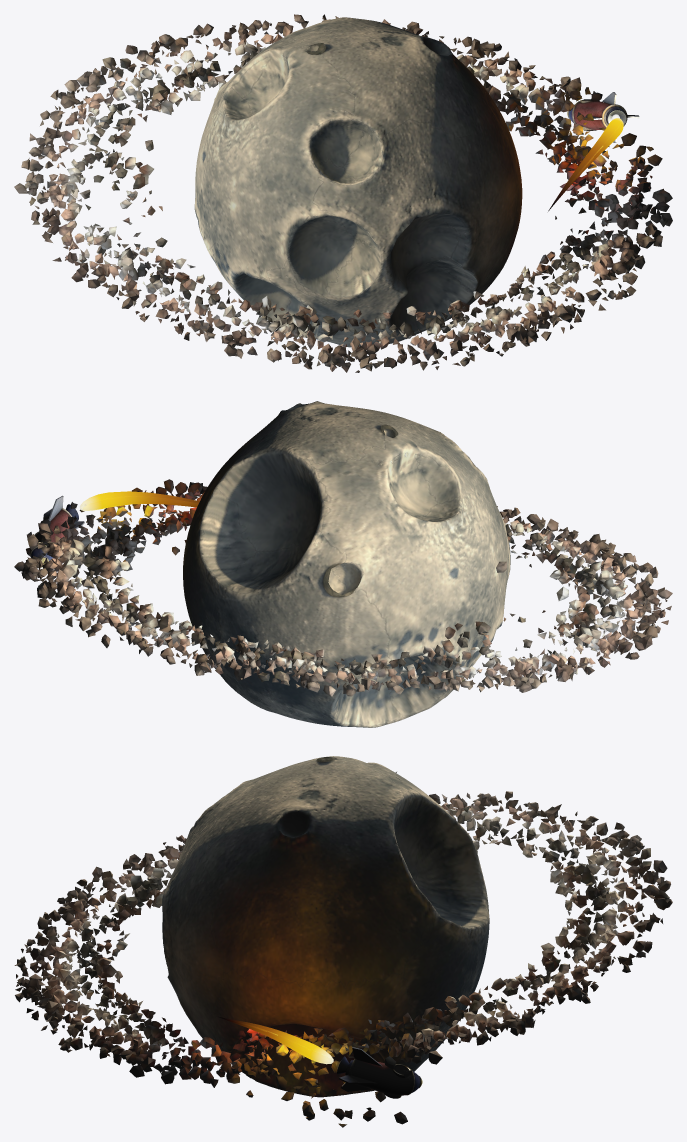
The model's file is moon2-PF6HyFMe.glb.
The picture shows the model from 3 angles, top to bottom: view 1: azimuth 30°, elevation 25°; view 2: azimuth 150°, elevation 25°; view 3: azimuth 270°, elevation 25°; orthographic projection.
Visible parts, largest first — view 1: Subdivision_Surface_Subdivision Surface.1_0, Ring_1_Ring_0, Raket_1_Raket_0; view 2: Subdivision_Surface_Subdivision Surface.1_0, Ring_1_Ring_0, Raket_1_Raket_0; view 3: Subdivision_Surface_Subdivision Surface.1_0, Ring_1_Ring_0, Raket_1_Raket_0.
Part boxes in pixels (x1,y1,x2,y2): Subdivision_Surface_Subdivision Surface.1_0: [194, 17, 522, 347]; Ring_1_Ring_0: [14, 14, 672, 372]; Raket_1_Raket_0: [548, 92, 639, 211]; Subdivision_Surface_Subdivision Surface.1_0: [183, 401, 510, 727]; Ring_1_Ring_0: [14, 479, 672, 696]; Raket_1_Raket_0: [30, 491, 199, 567]; Subdivision_Surface_Subdivision Surface.1_0: [162, 756, 489, 1097]; Ring_1_Ring_0: [14, 772, 672, 1127]; Raket_1_Raket_0: [216, 1016, 422, 1098].
Bounding box in the file's own units: 413 × 200 × 389.
4 materials, 3 textured.
